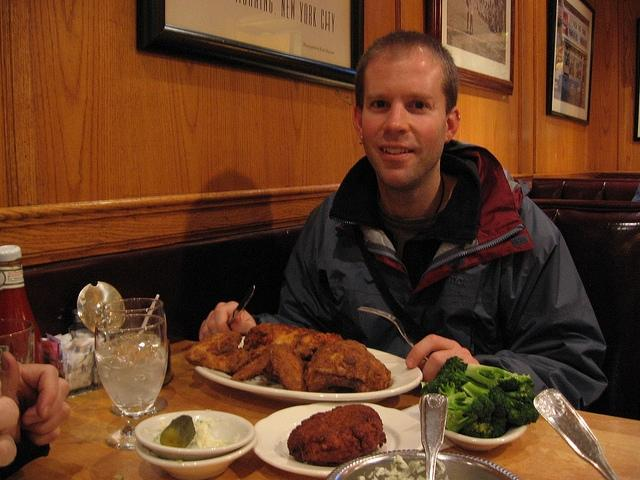broccoli: (462, 364, 534, 392), (461, 382, 510, 417), (506, 382, 540, 429), (433, 376, 466, 410), (459, 421, 495, 438), (446, 409, 470, 432), (491, 415, 509, 438), (458, 405, 478, 420)
